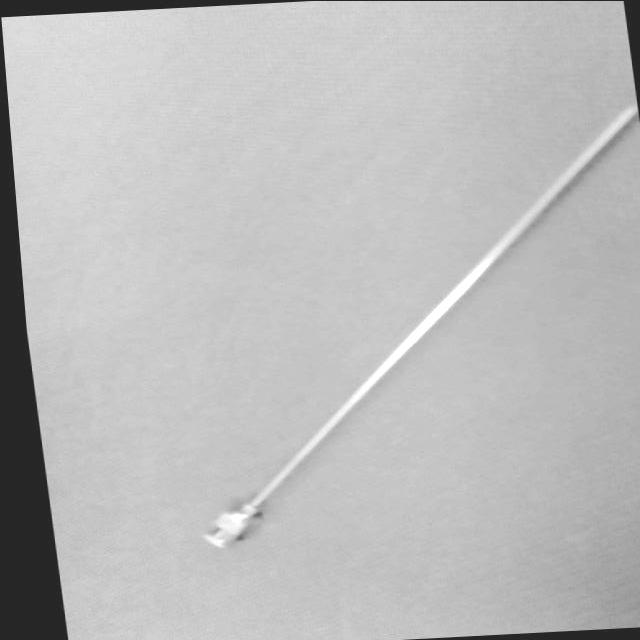Infectious: (201, 501, 263, 547)
Pathological: (1, 1, 638, 638)
Sharps: (200, 102, 637, 548)
